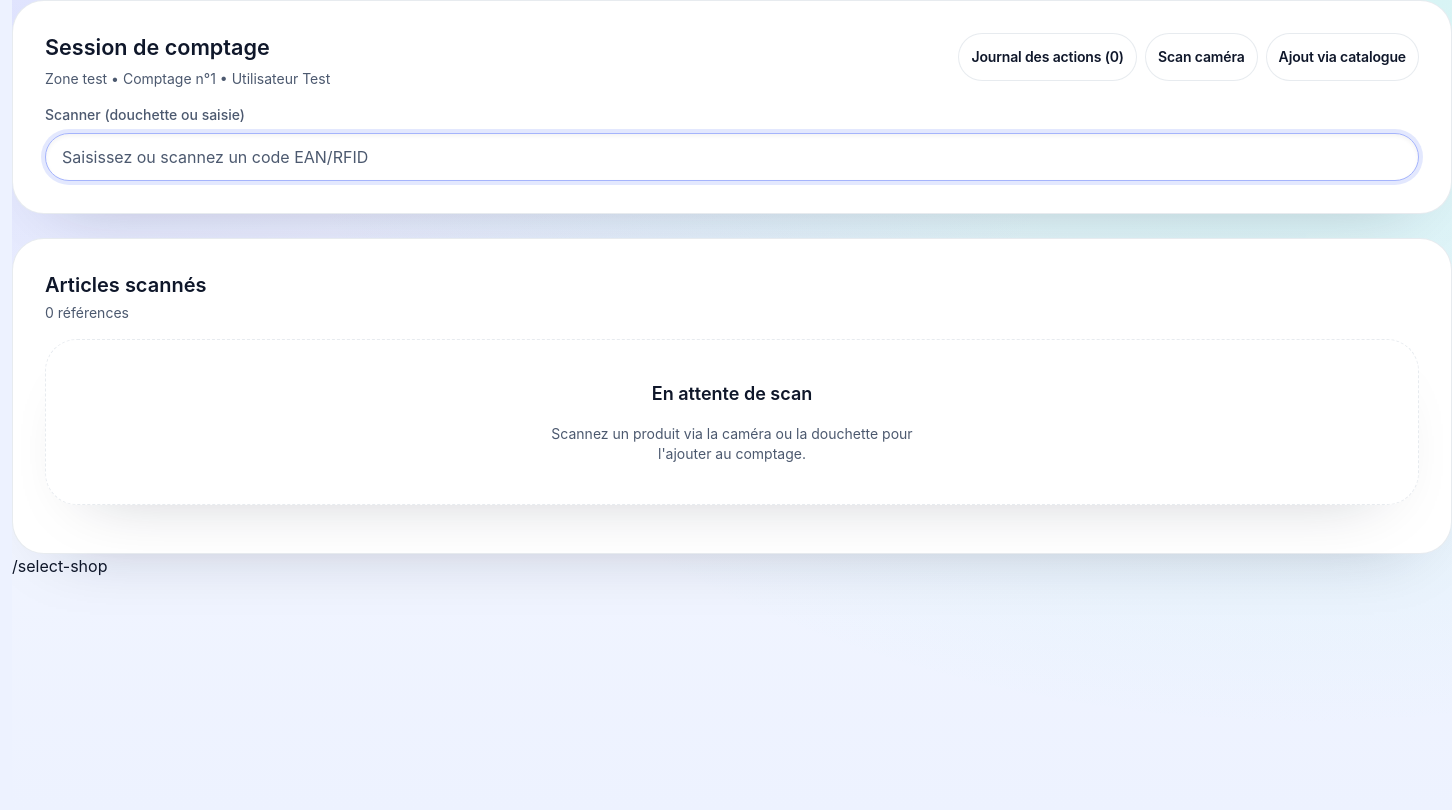
Scenario: InventorySessionPage - navigation › redirige vers la page de scan caméra
This screenshot has width=1452, height=810.
Click the button with test id "btn-scan-camera" at (1201,57), box [1145,33,1258,81]
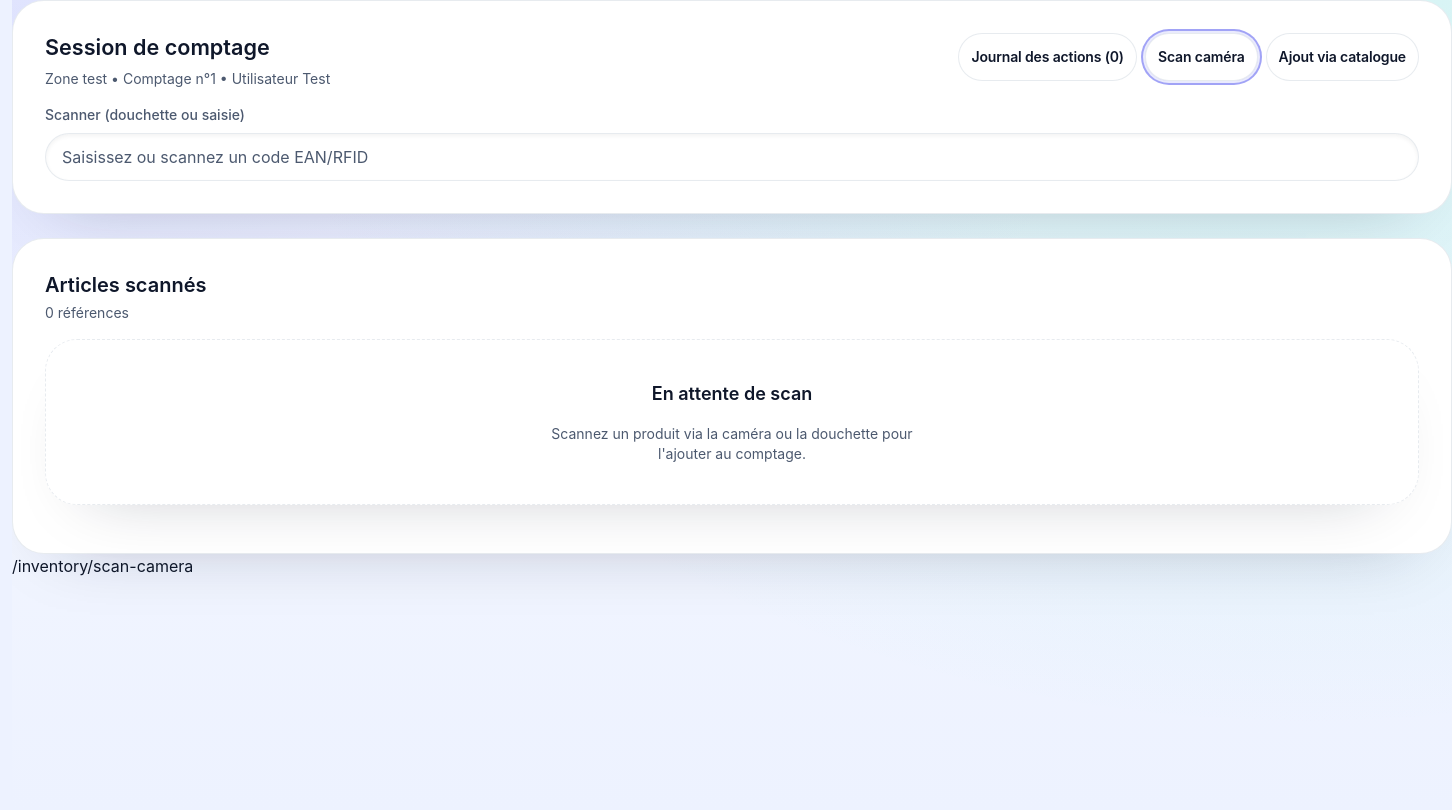
Check: the text with test id "current-path" reads "/inventory/scan-camera", box [12,556,193,576]
